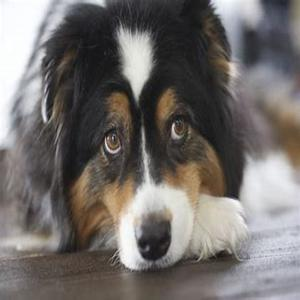dog: (37, 13, 252, 274)
